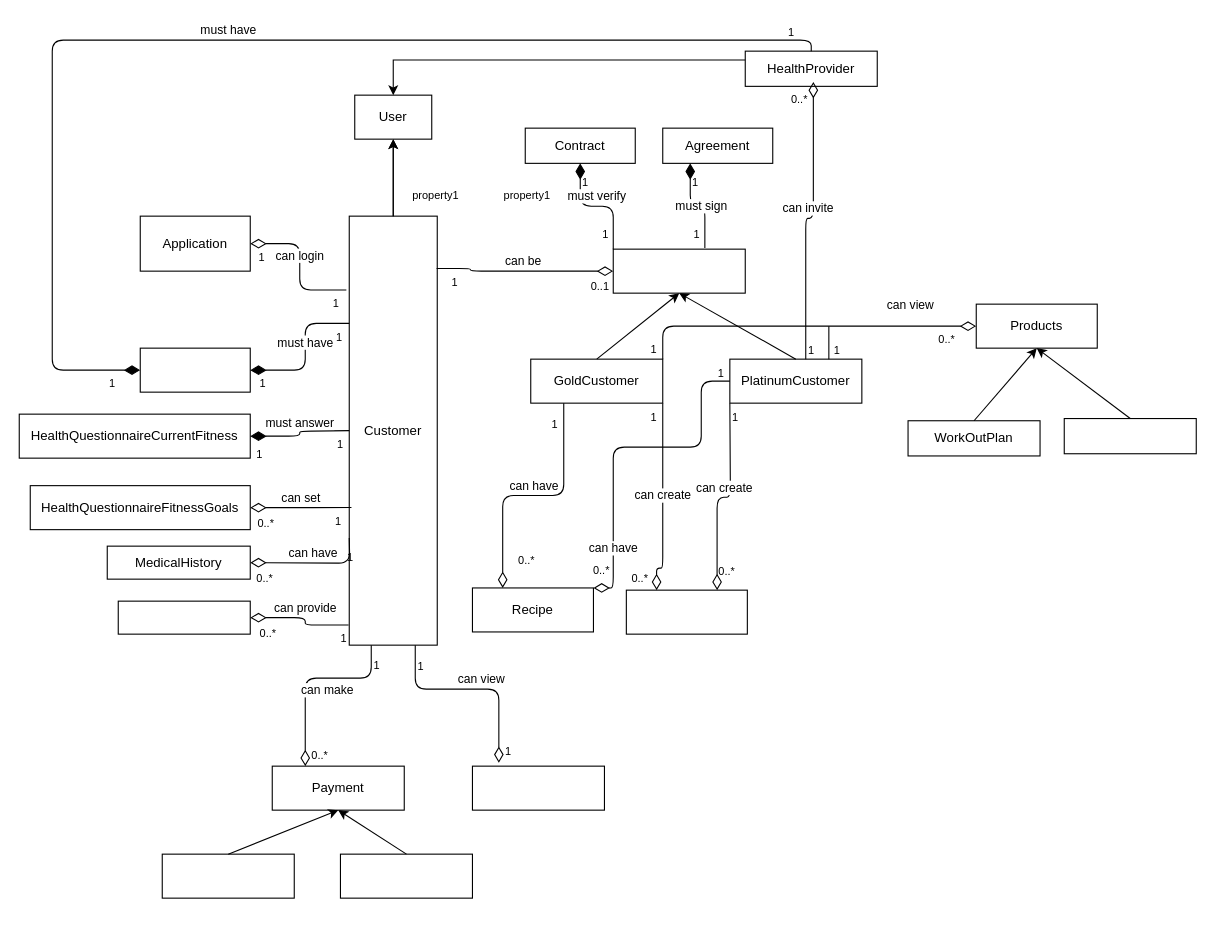
Some shapes in this 1216 by 937 pixel diagram are drawn without their labels. The centre of each missing label's shape, as x and y in pixels:
BillingHistory: (x=537, y=787)
CreditCard: (x=227, y=875)
DietPlan: (x=1129, y=435)
FavoriteList: (x=686, y=611)
Medication: (x=183, y=617)
Paypal: (x=405, y=875)
Registration: (x=194, y=369)
Suscriber: (x=678, y=270)
